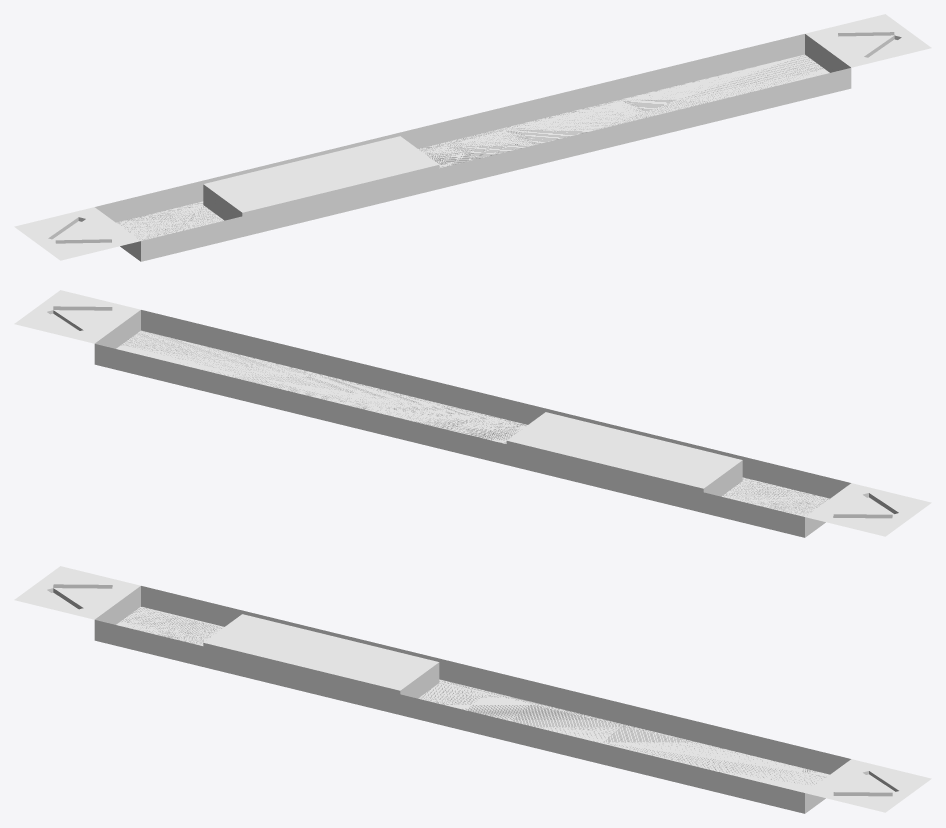
File: scroll.obj
3 views of the same model, one above another, from view 1: azimuth 30°, elevation 25°; view 2: azimuth 150°, elevation 25°; view 3: azimuth 330°, elevation 25° (orthographic).
Visible parts, largest first — view 1: SketchUp, SketchUp_ID21; view 2: SketchUp, SketchUp_ID21; view 3: SketchUp, SketchUp_ID21.
Part boxes in pixels (x1,y1,x2,y2): SketchUp: (14,14,931,261); SketchUp_ID21: (118,55,822,239); SketchUp: (14,290,931,537); SketchUp_ID21: (121,331,829,514); SketchUp: (14,566,931,813); SketchUp_ID21: (122,606,825,784).
Size of the model in its own units: 2.92 by 0.0667 by 0.2699.
Materials: 4 (3 with a texture image).
